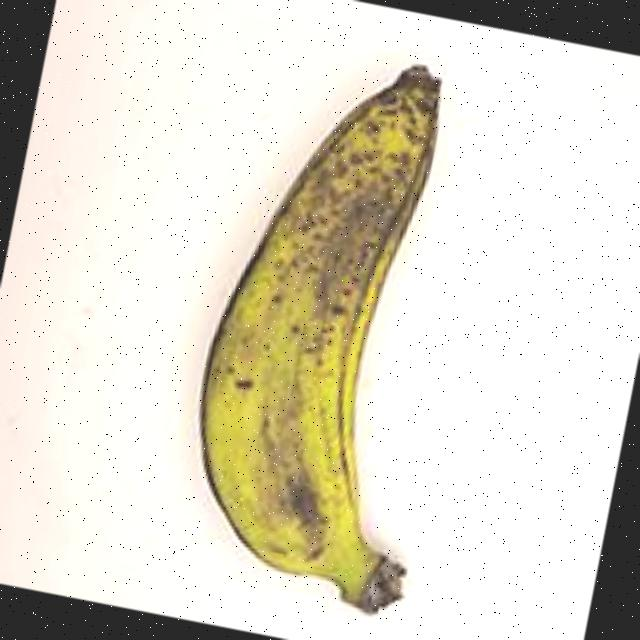Overripe: (134, 19, 562, 640)
